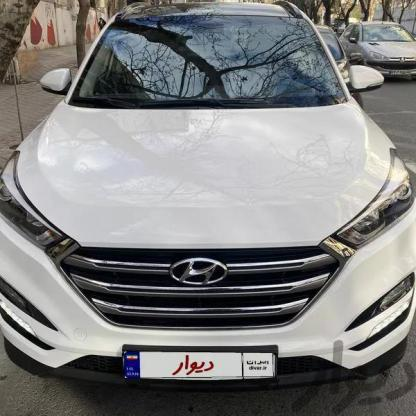Car: (0, 0, 416, 400), (345, 0, 415, 116)
